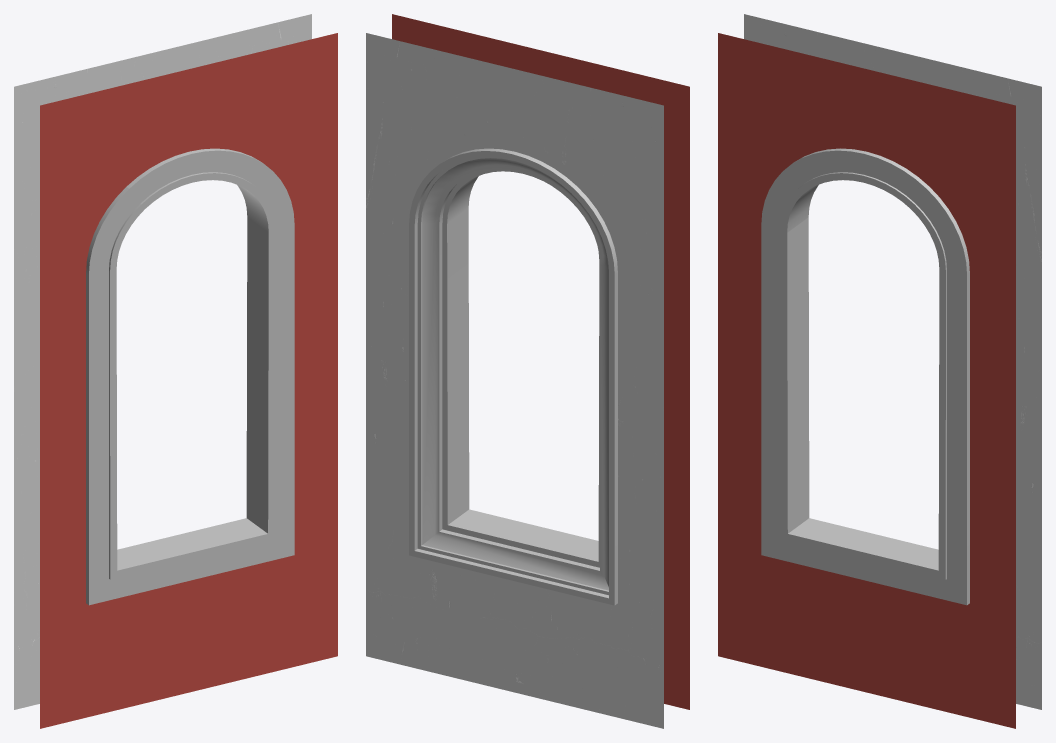
Rendered from SM_BuildingFacade_Window_350x200uu_07_A.fbx.
The picture shows the model from 3 angles, left to right: view 1: azimuth 30°, elevation 25°; view 2: azimuth 150°, elevation 25°; view 3: azimuth 330°, elevation 25°; orthographic projection.
Visible parts, largest first — view 1: Mesh (32); view 2: Mesh (32); view 3: Mesh (32).
Part boxes in pixels (bbox=[...]): Mesh (32): bbox=[14, 14, 337, 728]; Mesh (32): bbox=[366, 14, 689, 728]; Mesh (32): bbox=[718, 14, 1041, 728].
Size of the model in its own units: 200 by 400 by 38.19.
